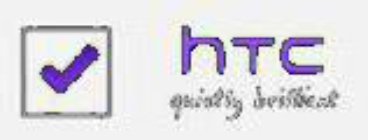CheckBox: (1, 1, 367, 139)
